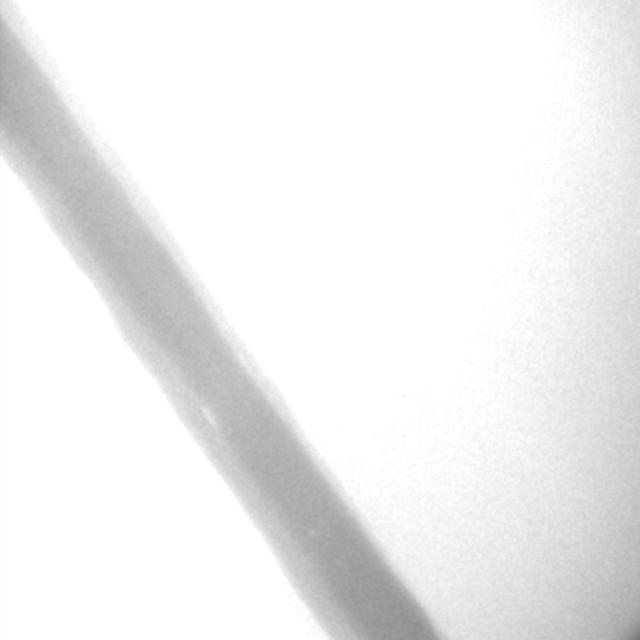air hole: (199, 402, 217, 429)
